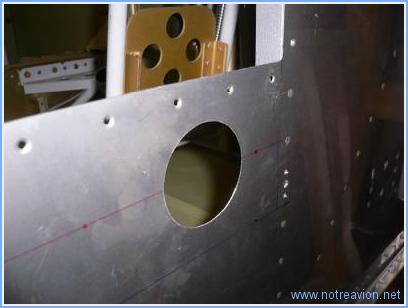hole: (17, 140, 28, 152), (102, 118, 111, 127), (224, 87, 232, 96), (173, 99, 181, 108), (269, 75, 275, 84)
